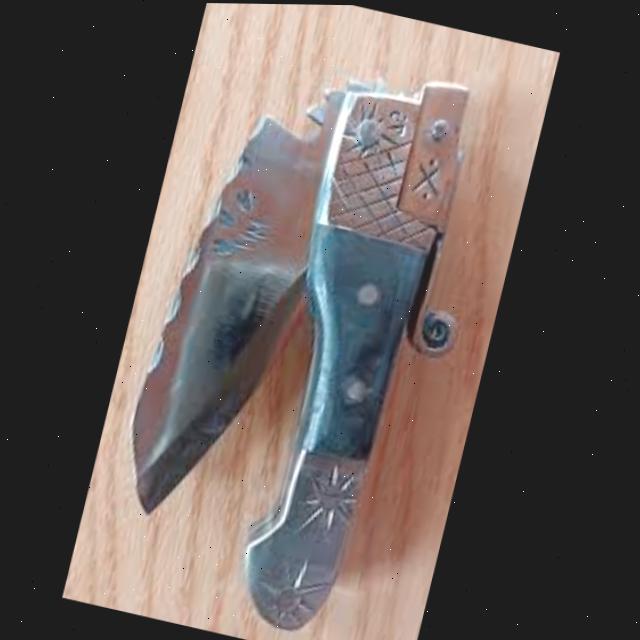knife: (114, 40, 484, 564)
